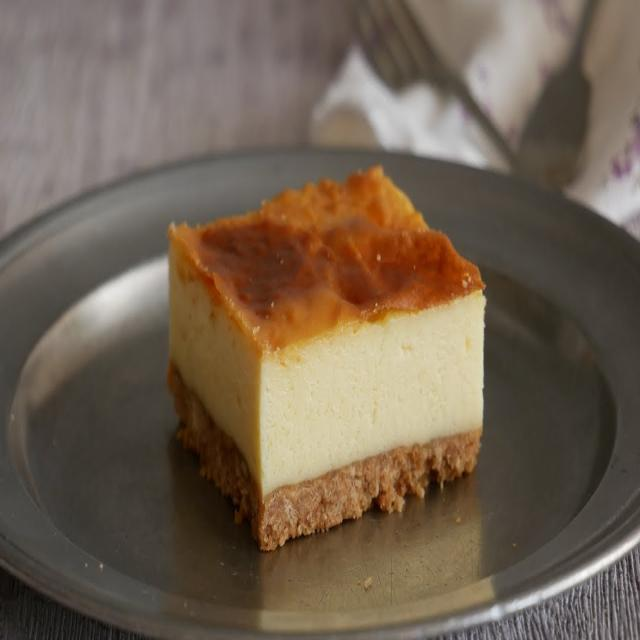cheesecake: (167, 164, 487, 506)
